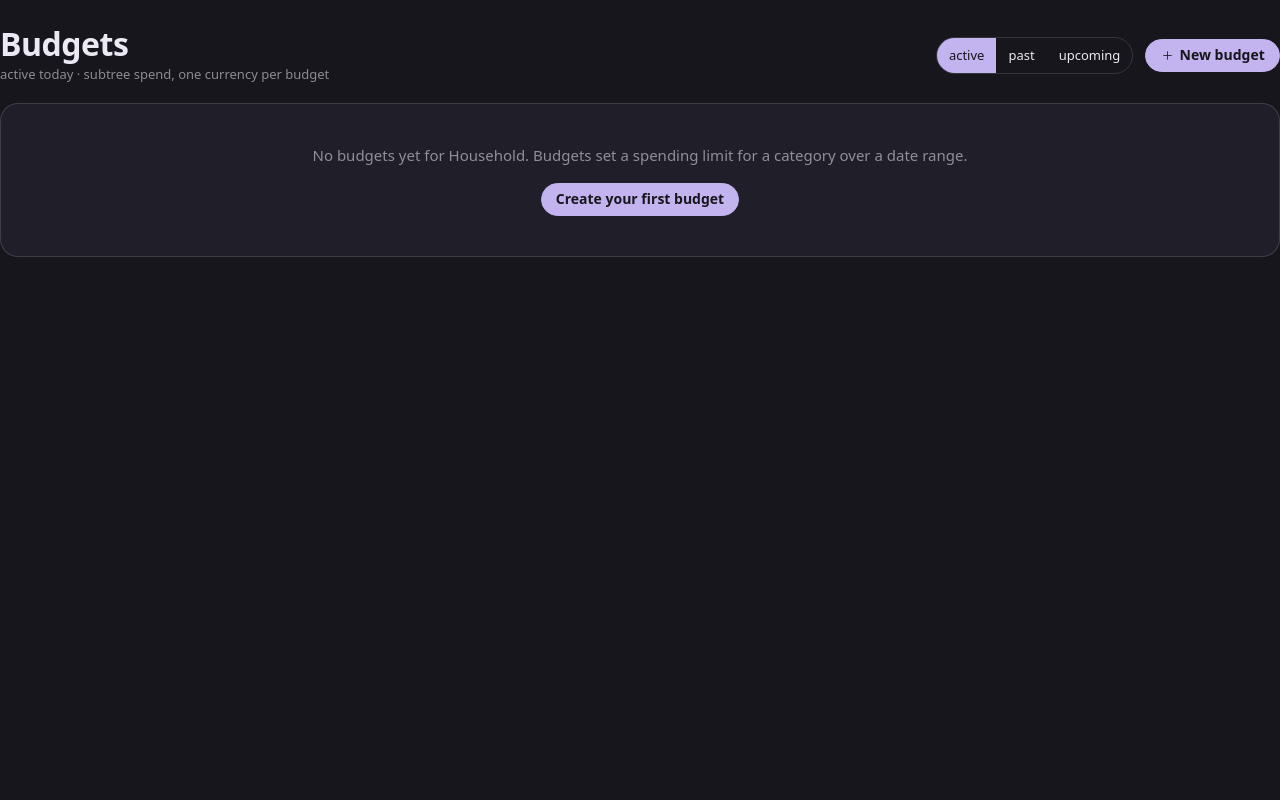
Test: clicking "New budget" opens the create form
This screenshot has width=1280, height=800.
What coordinates should you click on to do the following:
click the button "New budget"
I would click on:
 (1213, 56)
Its box is [1145,39,1279,72].
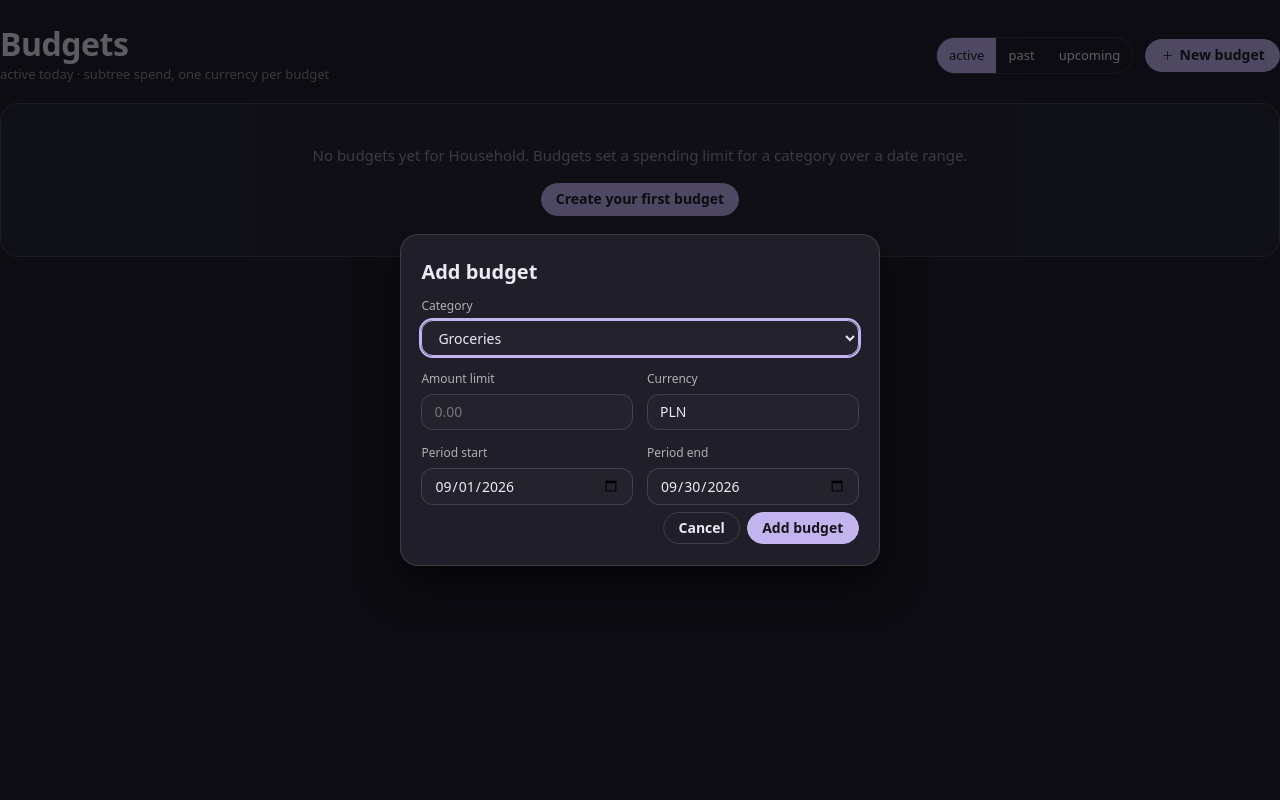
Now the dialog "Add budget" is shown, box [400,234,880,566]
